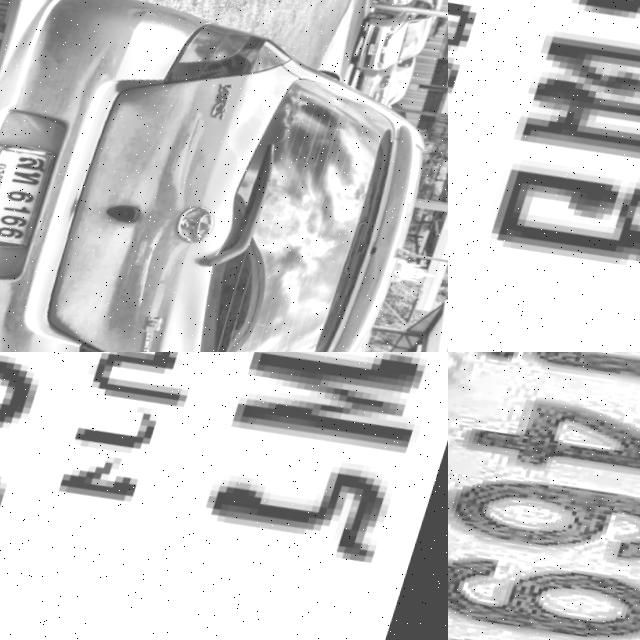license-plate: (0, 352, 448, 640), (448, 0, 640, 352), (448, 352, 640, 640), (0, 135, 68, 262), (367, 48, 382, 65)
